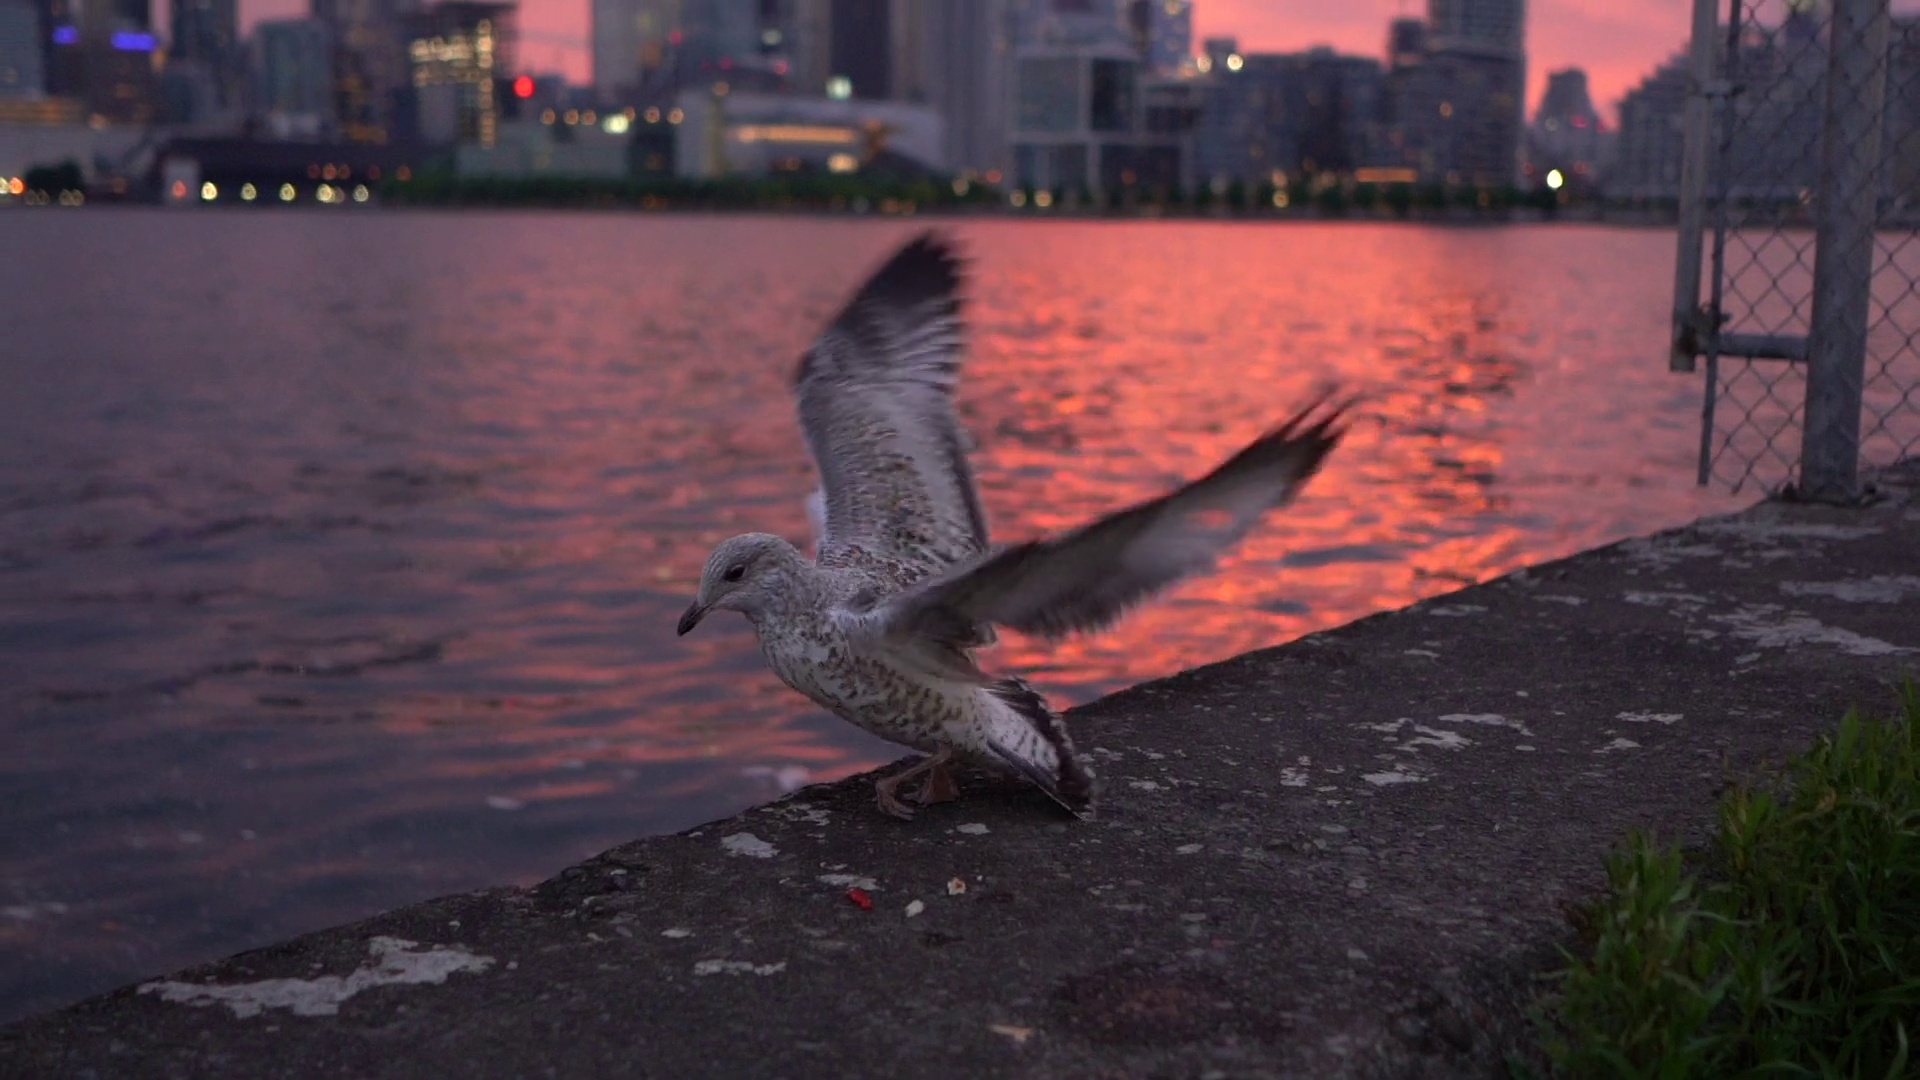bird: (674, 227, 1358, 828)
